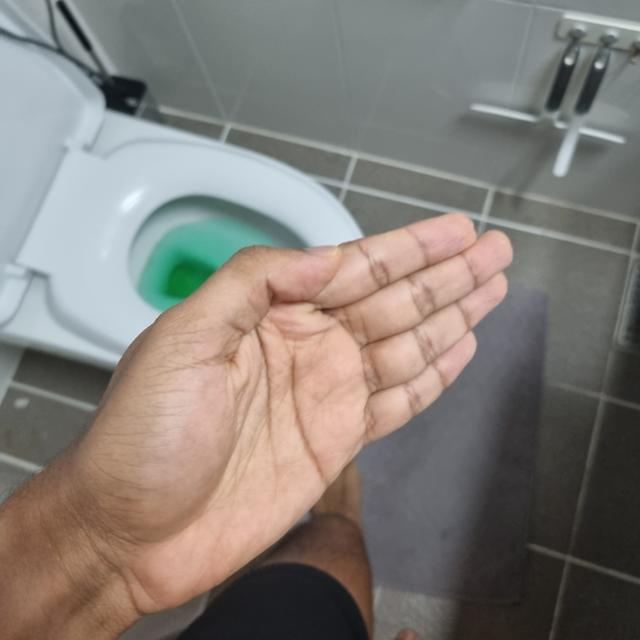Paper: (70, 217, 508, 607)
